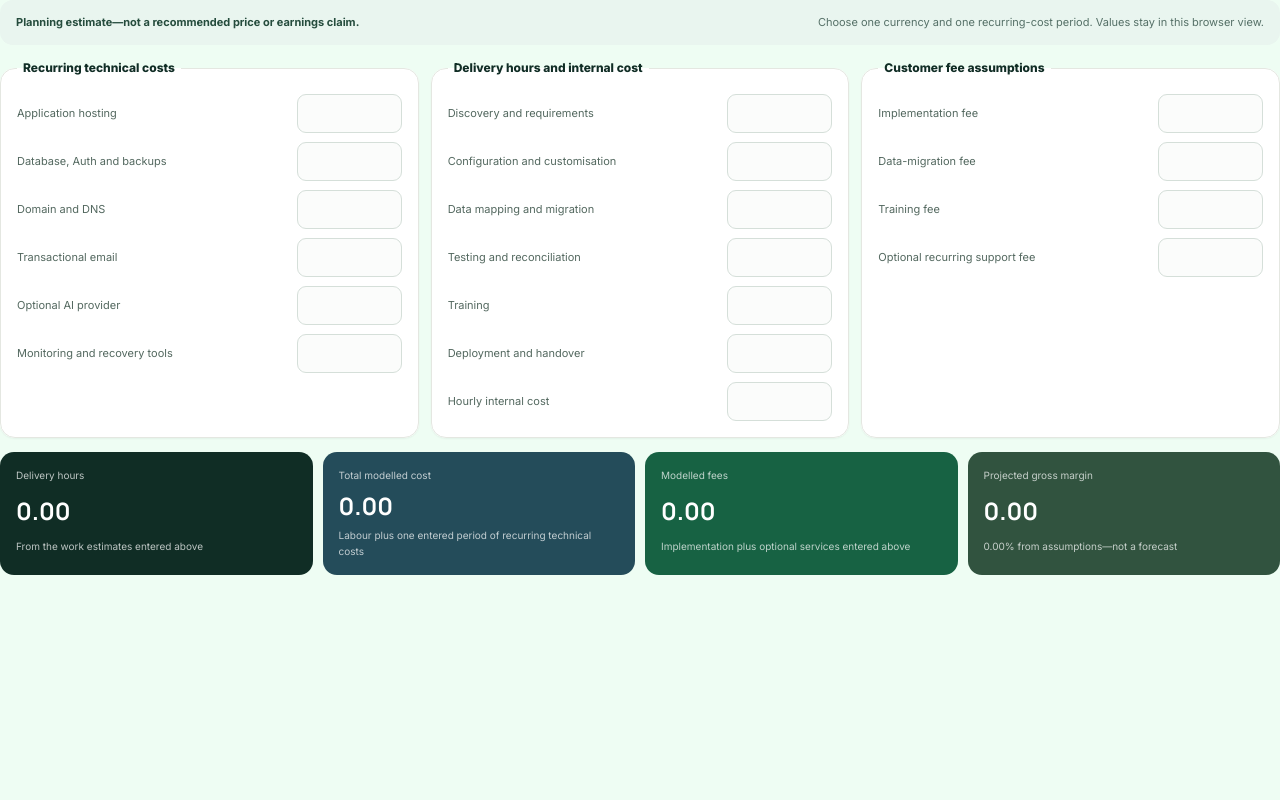
Test: AccountingPricingPlanner › recalculates projected gross margin from editable assumptions
Type "100" into the number field labelled "Application hosting" at [349, 113], box [297,94,402,133]
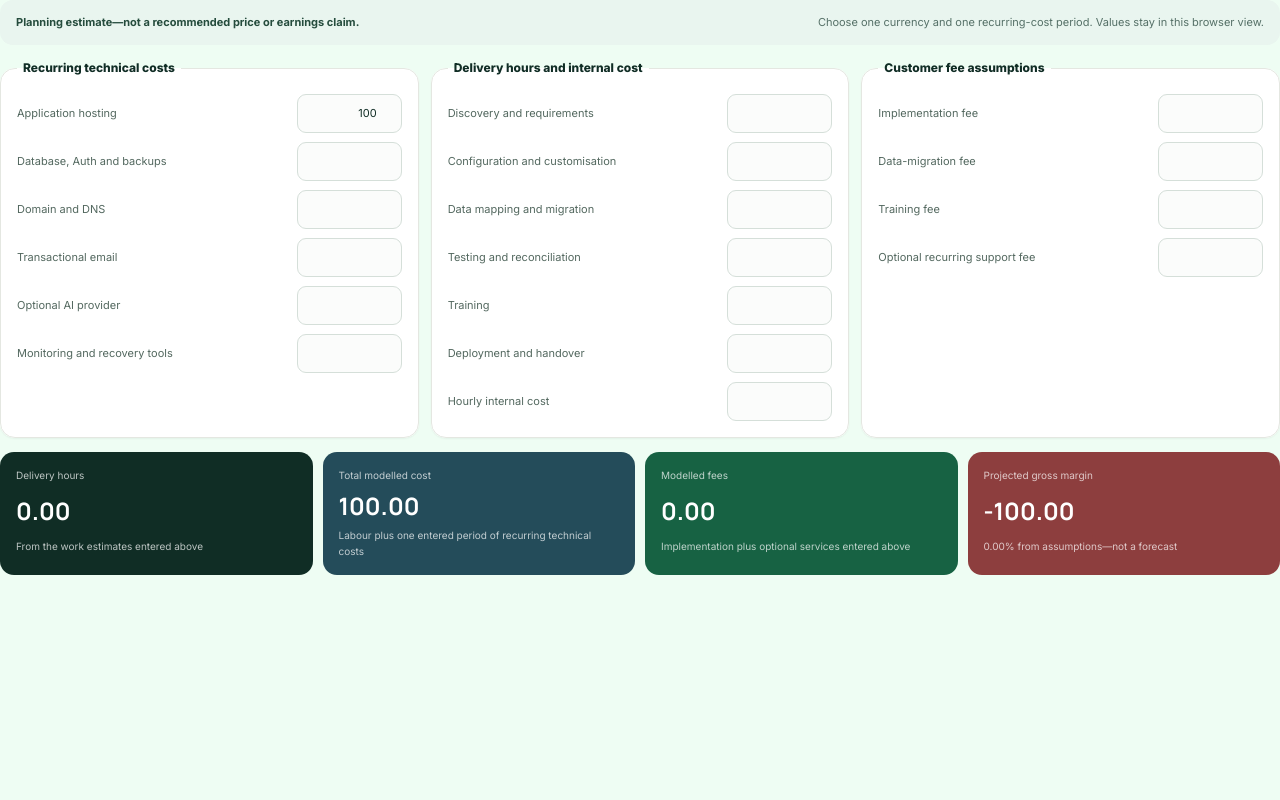
Type "10" into the number field labelled "Discovery and requirements" at [780, 113], box [727,94,832,133]
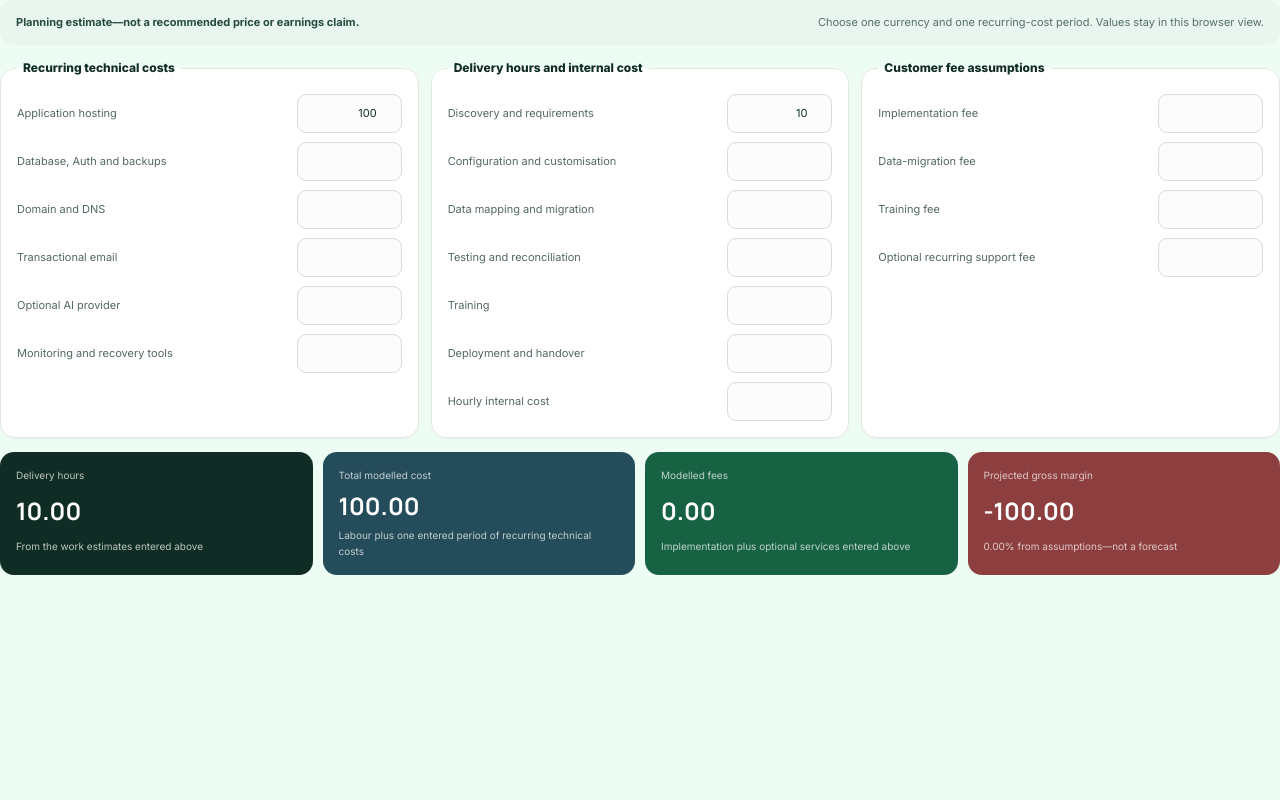
Type "20" into the number field labelled "Hourly internal cost" at [780, 401], box [727,382,832,421]
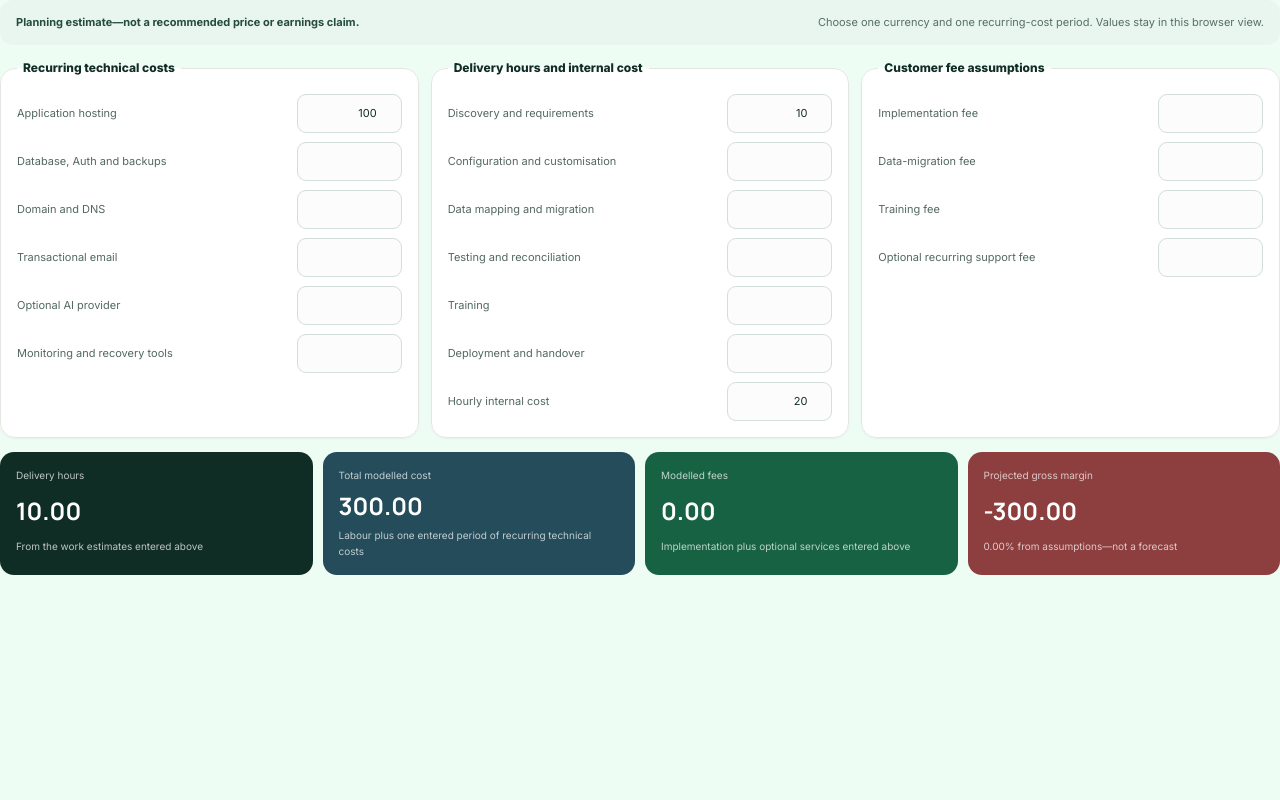
Type "500" into the number field labelled "Implementation fee" at [1210, 113], box [1158,94,1263,133]
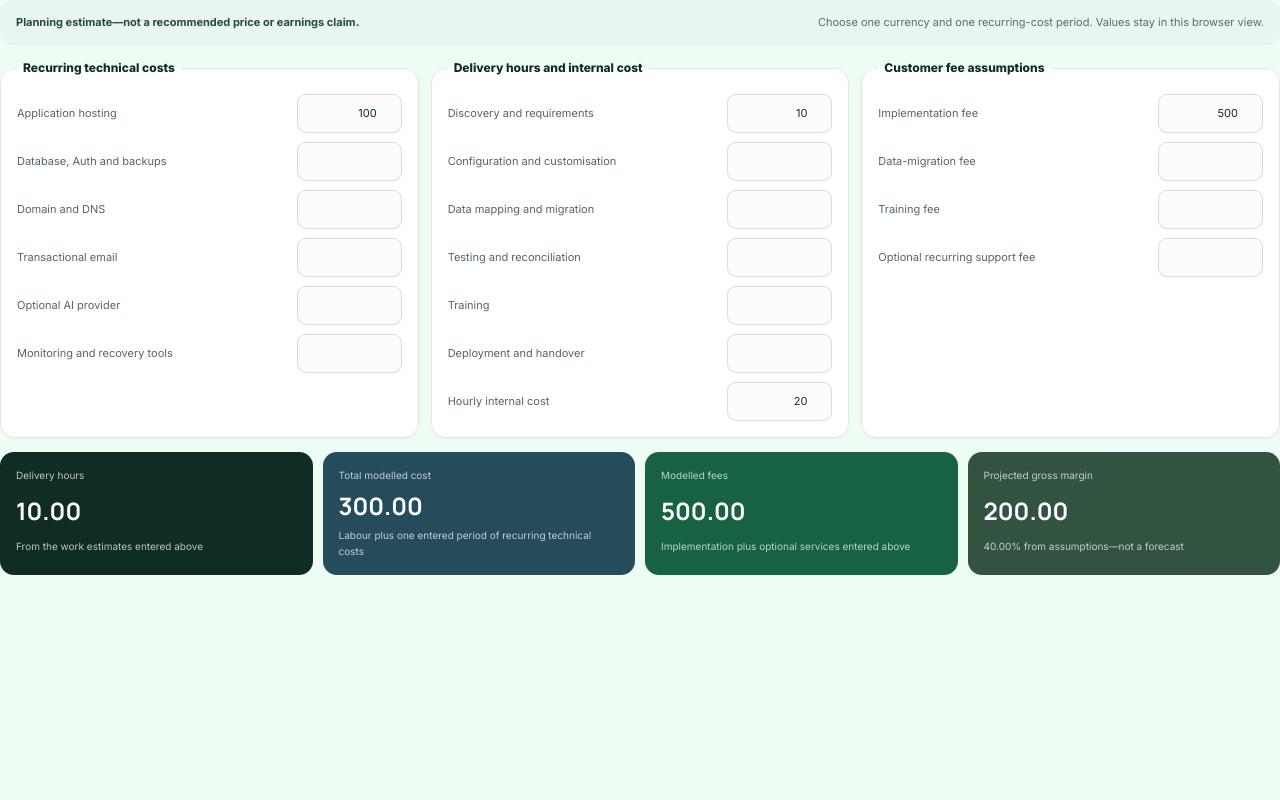
Expected: the text "300.00" is shown, [338,489,423,522]
Expected: the text "200.00" is shown, [984,494,1068,527]
Expected: the text "40.00% from assumptions—not a forecast" is shown, [984,540,1184,552]
